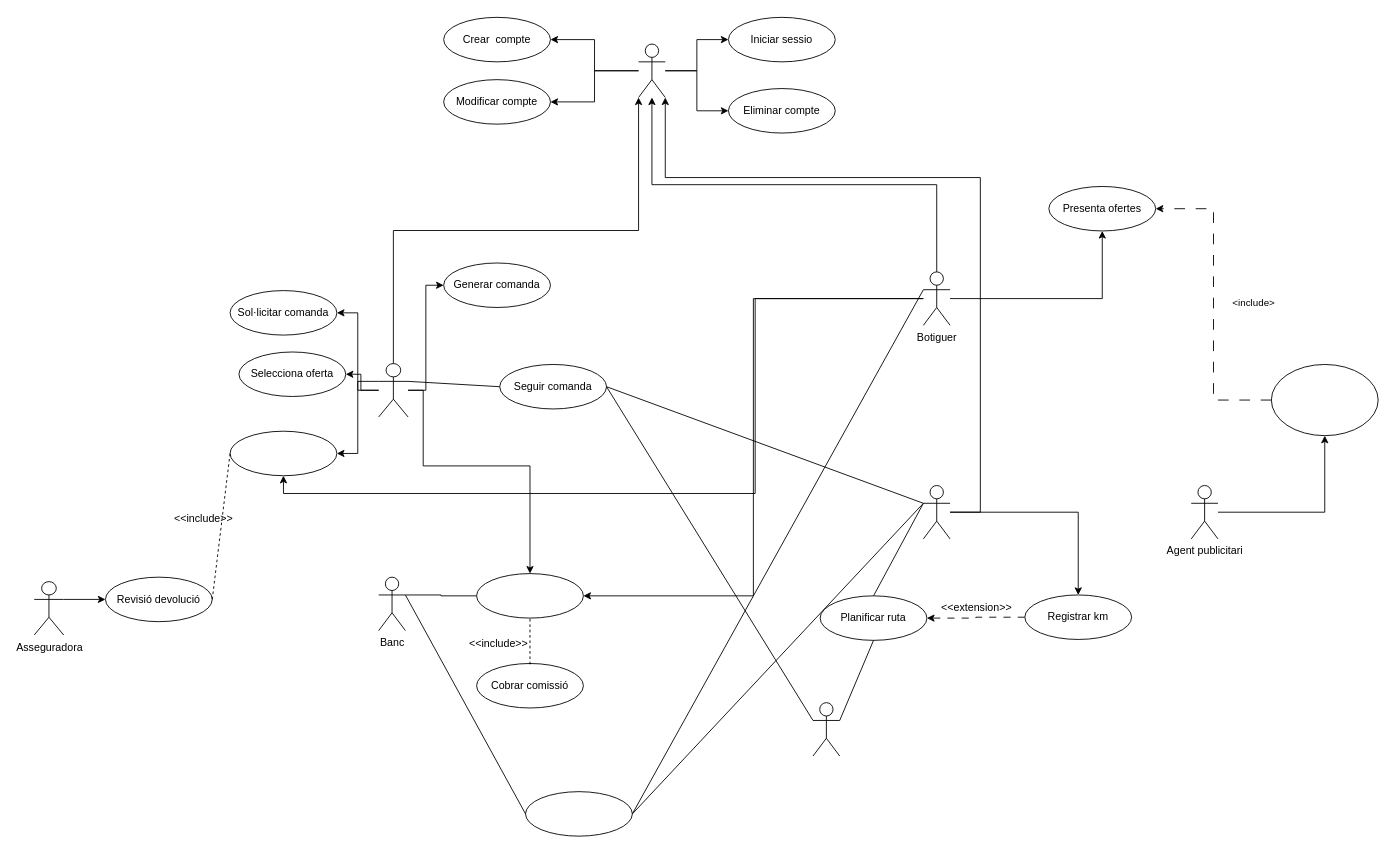
Some shapes in this 1394 by 852 pixel diagram are drawn without their labels. The shapes that lost their labels are listed below. From the top down, each one's box as (x1, y1, x2, y2) in pixels, then its label:
(638, 43, 665, 97): Usuari
(378, 363, 408, 417): Client
(1270, 364, 1378, 436): Mostrar publicitat
(229, 430, 337, 476): Fer devolució
(922, 485, 950, 539): Transportista
(476, 573, 583, 618): Pagar comanda
(812, 702, 840, 756): GPS
(525, 791, 632, 836): Pagar transportista
